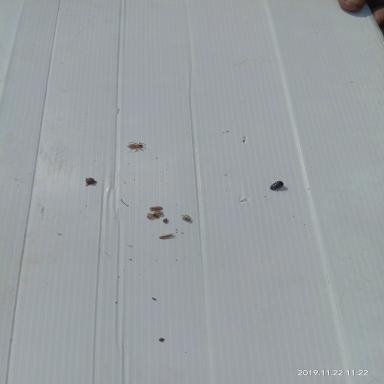pbw: (157, 231, 173, 240)
